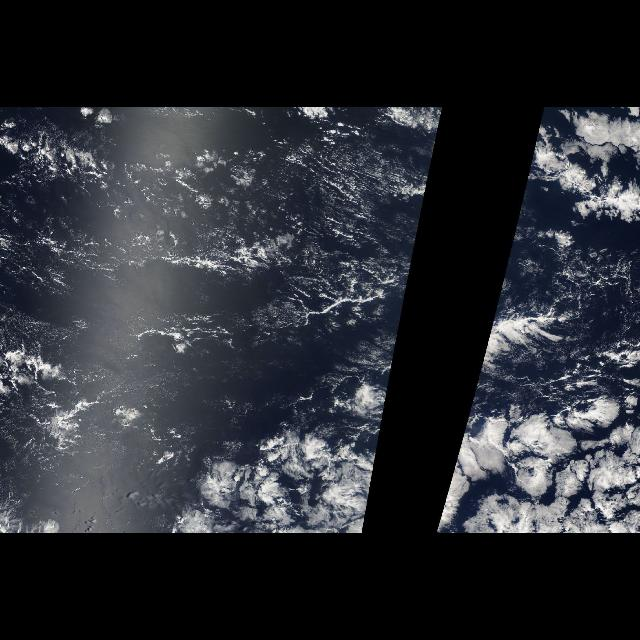Flower: (434, 388, 640, 532)
Gravel: (17, 114, 171, 296)
Sugar: (283, 144, 393, 318)
